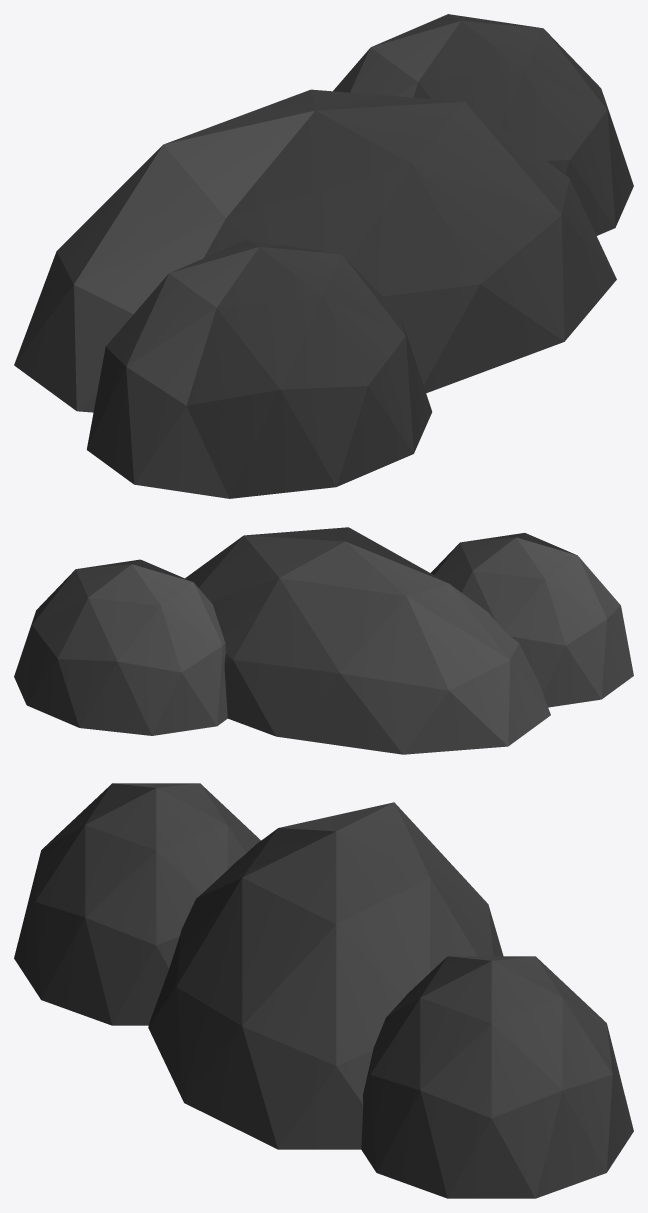
The model's file is Stone.glb.
The picture shows the model from 3 angles, top to bottom: view 1: azimuth 30°, elevation 25°; view 2: azimuth 150°, elevation 25°; view 3: azimuth 270°, elevation 25°; orthographic projection. The views are drawn at different scales.
Parts seen in each view (by area): view 1: Stone; view 2: Stone; view 3: Stone.
Part boxes in pixels (x1,y1,x2,y2): Stone: (14,14,633,498); Stone: (14,527,633,754); Stone: (14,783,633,1198).
Size of the model in its own units: 3.87 by 1.15 by 3.3.
Materials: 1 (1 with a texture image).
